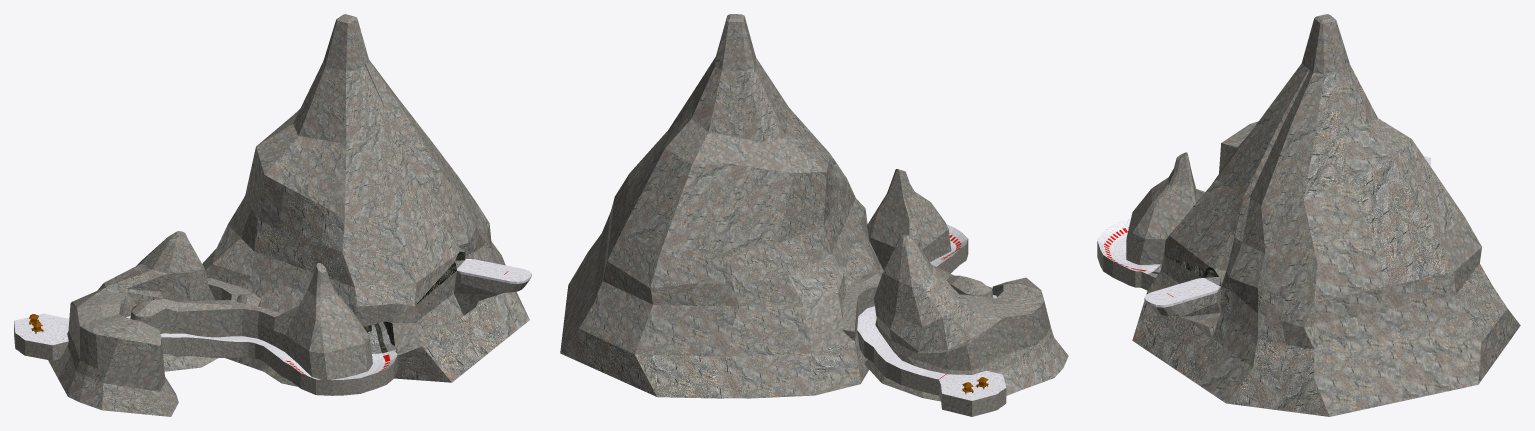
Rendered from Cavern.fbx.
The picture shows the model from 3 angles, left to right: view 1: azimuth 30°, elevation 25°; view 2: azimuth 150°, elevation 25°; view 3: azimuth 270°, elevation 25°; orthographic projection. The views are drawn at different scales.
Visible parts, largest first — view 1: Course; view 2: Course; view 3: Course.
Part boxes in pixels (box(x1,y1,x2,y2)): Course: box(14, 14, 531, 416); Course: box(560, 14, 1068, 416); Course: box(1097, 14, 1520, 416).
Size of what is drawn, in the model's own units: 35415 by 22402 by 27014.
8 materials, 4 textured.
